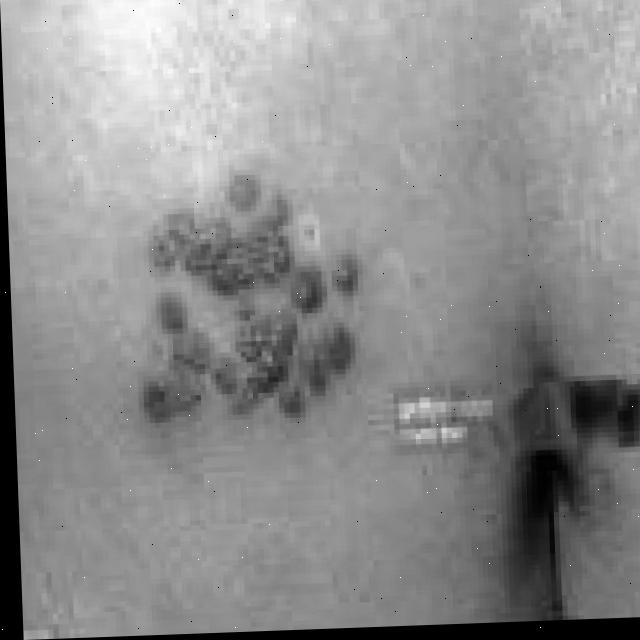Shingles: (144, 176, 347, 420)
